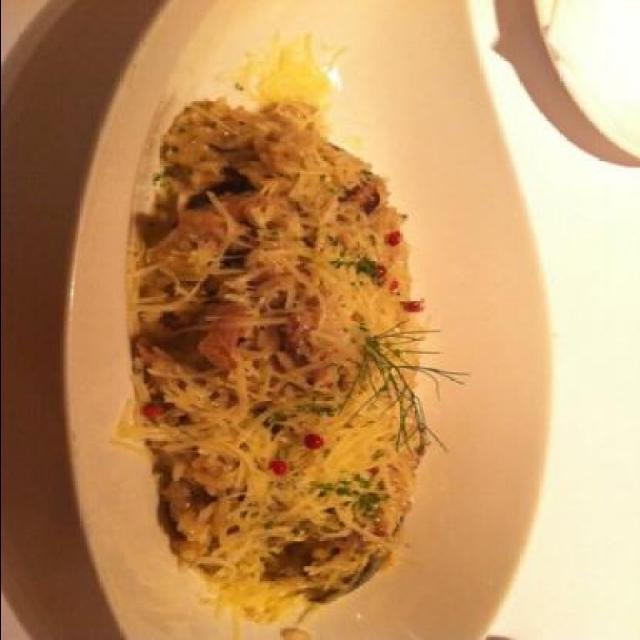Risotto: (104, 130, 453, 608)
